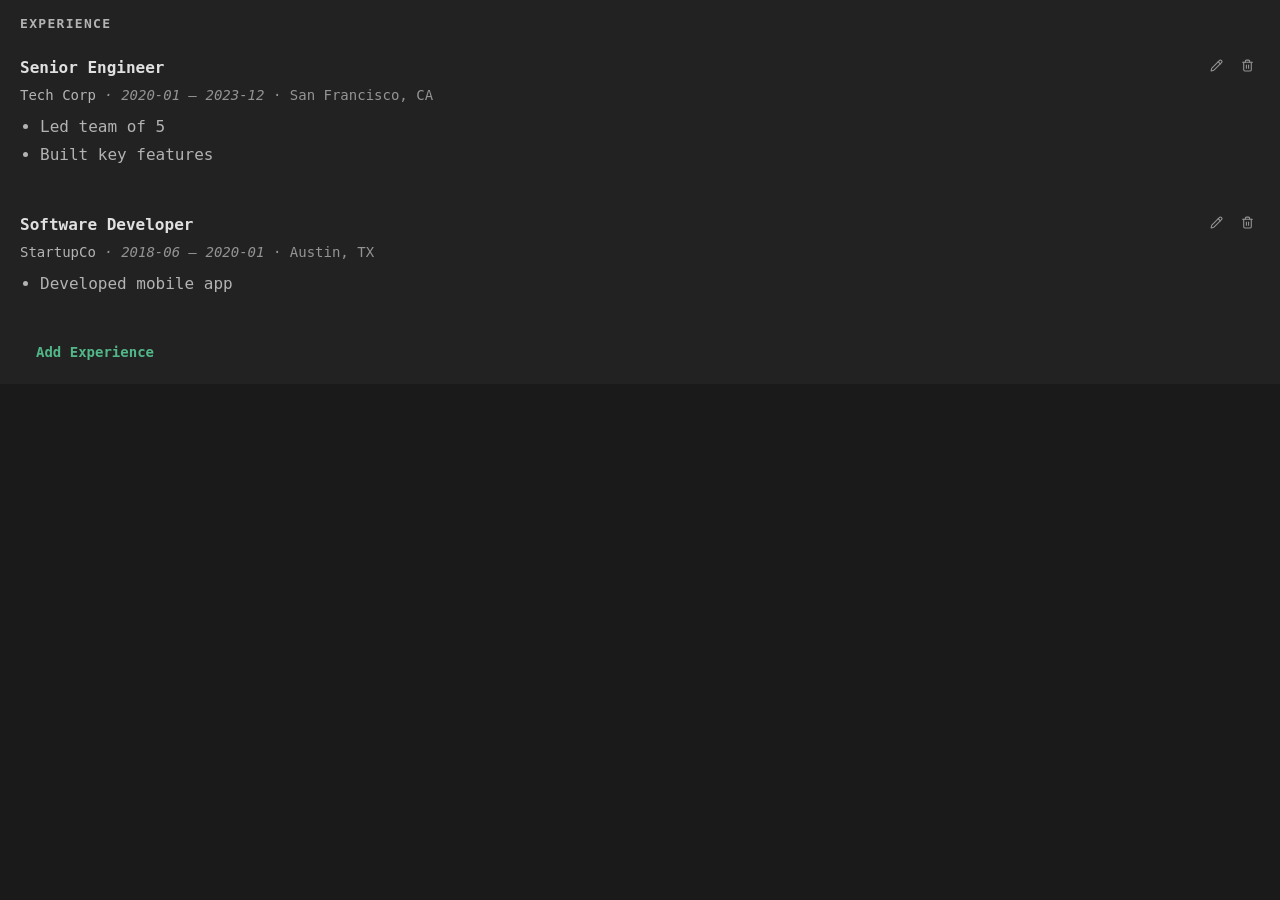
Test: ExperienceSection (edit/add/delete) › delete mode › cancels delete when cancel clicked
The width and height of the screenshot is (1280, 900).
Step 1. Click the button named "delete" in the row of "Senior Engineer" → (1248, 65), box [1235, 55, 1260, 76]
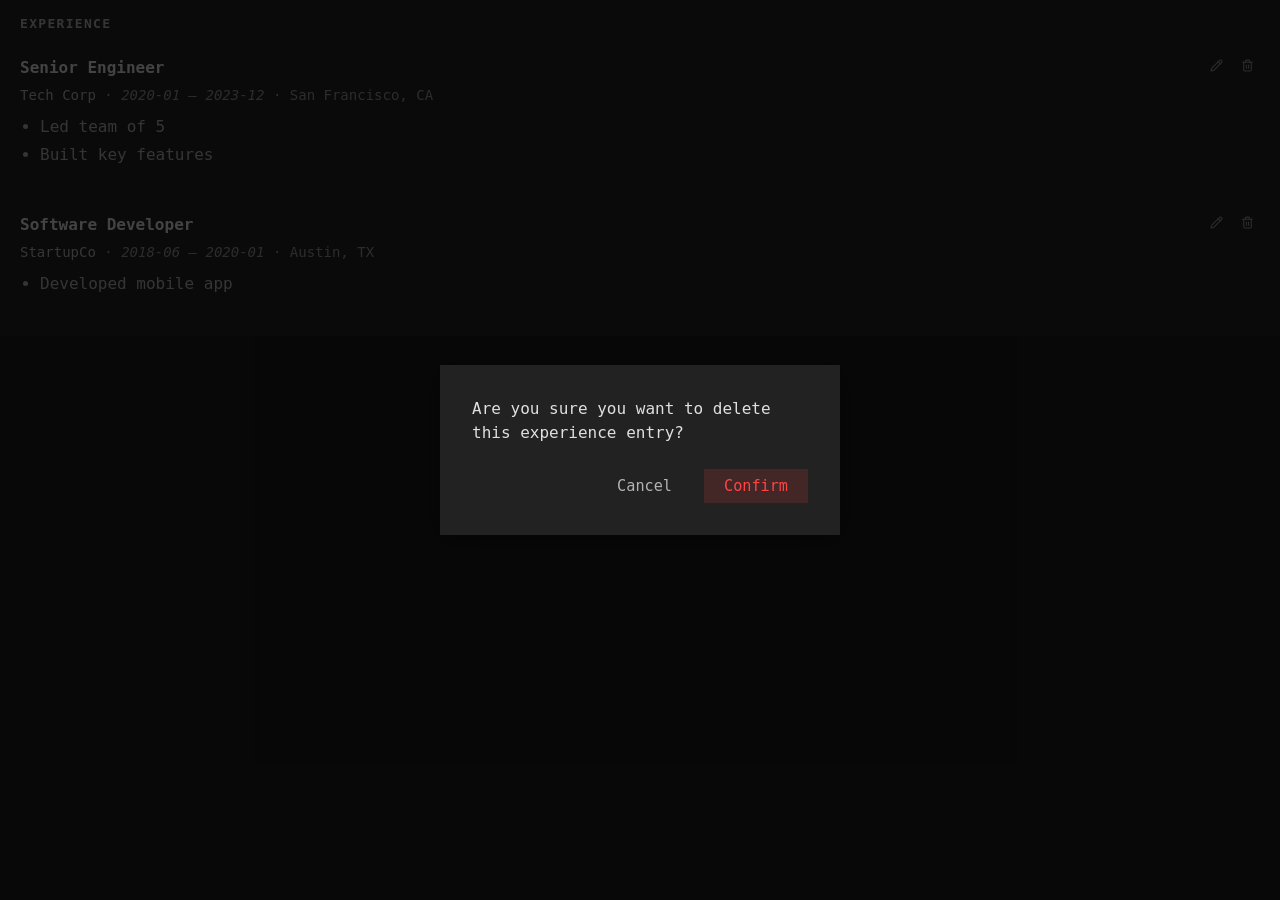
Step 2. Click the button "Cancel" → (645, 486), box [597, 469, 692, 503]
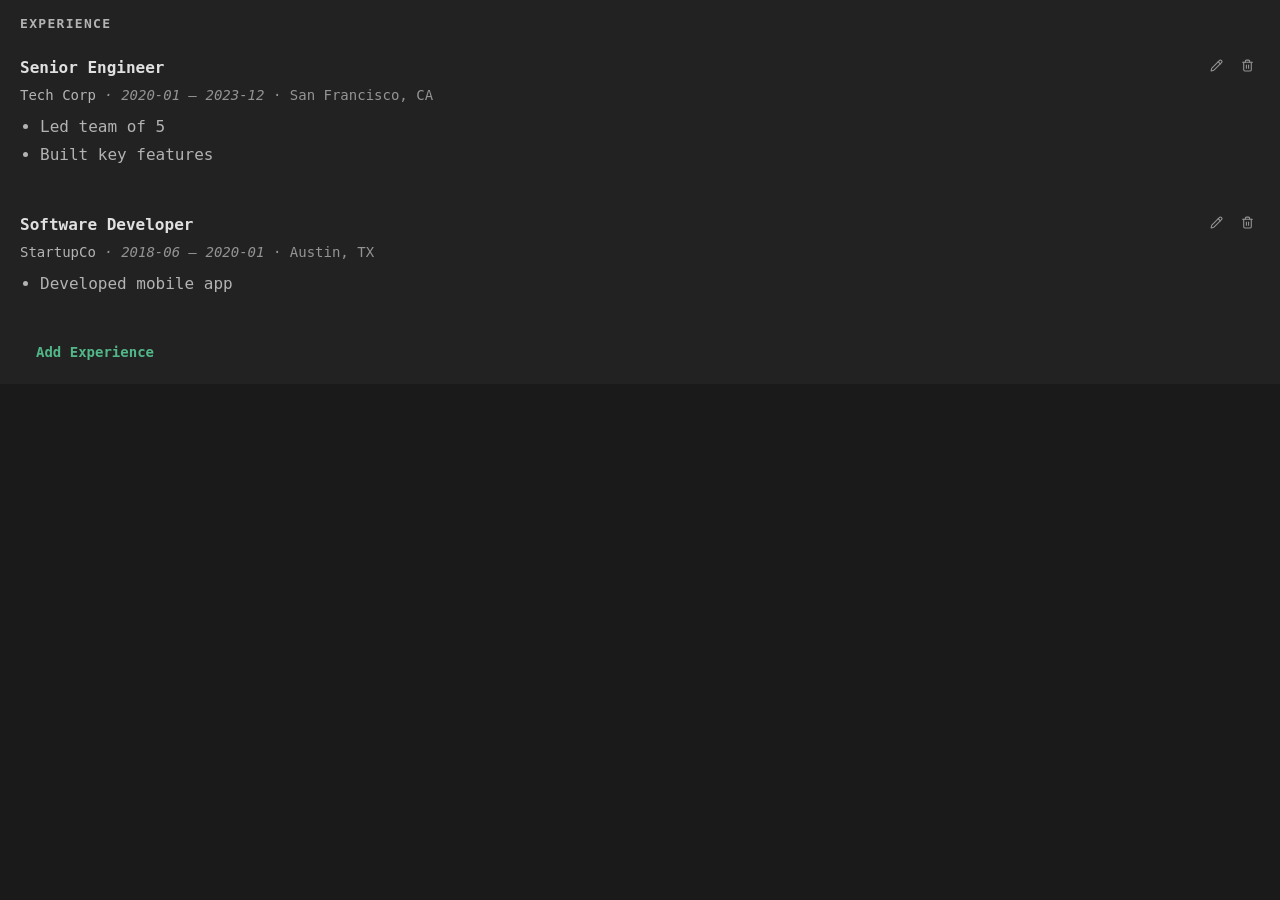
Now the text "Are you sure" is gone
